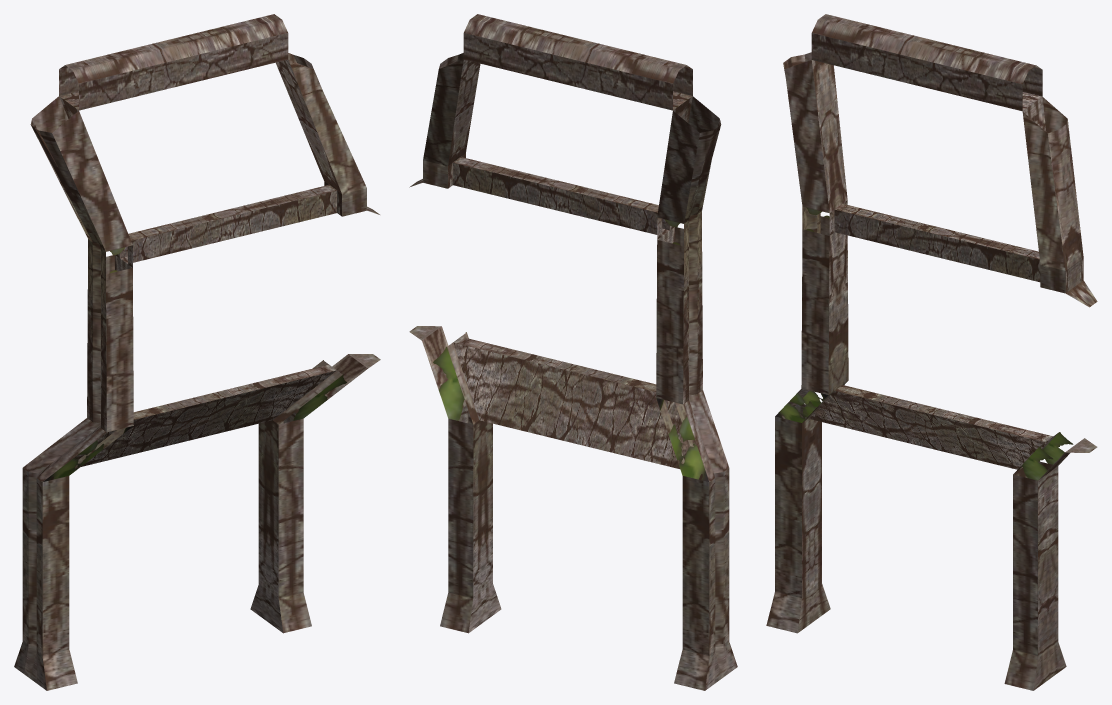
The model's file is Bord_pyl_m.FBX.
The picture shows the model from 3 angles, left to right: view 1: azimuth 30°, elevation 25°; view 2: azimuth 150°, elevation 25°; view 3: azimuth 330°, elevation 25°; orthographic projection.
Visible parts, largest first — view 1: c; view 2: c; view 3: c.
Boxes of the visible parts, x1,y1,x2,y2 form: c: [14, 14, 380, 690]; c: [409, 14, 737, 690]; c: [766, 14, 1097, 690].
Size of the model in its own units: 1.1 by 0.2654 by 1.94.
